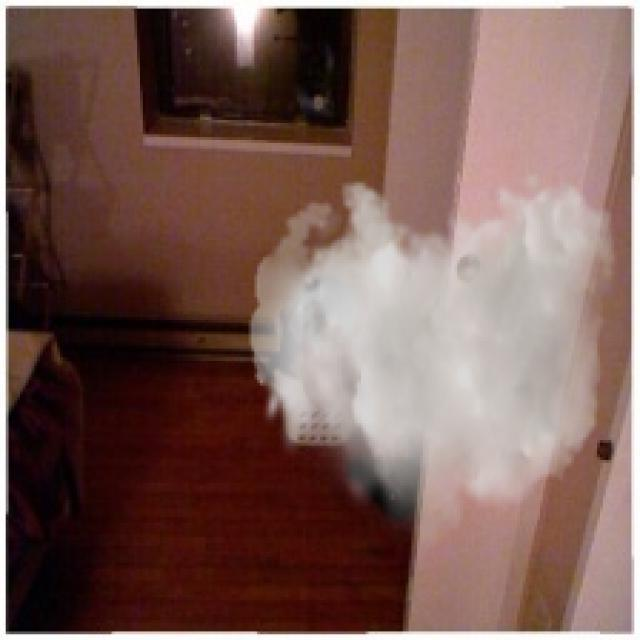Smoke: (248, 168, 618, 558)
